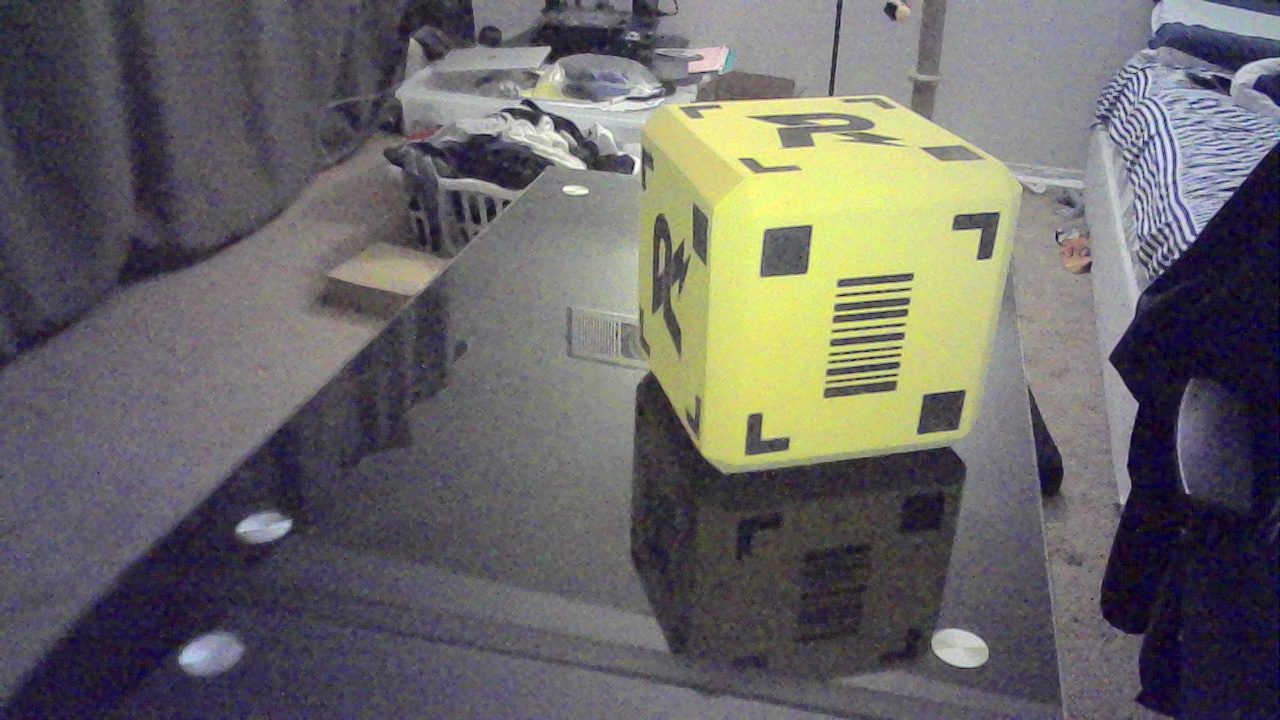Barcode: (829, 275, 919, 404)
R: (758, 103, 911, 158), (651, 205, 699, 365)
